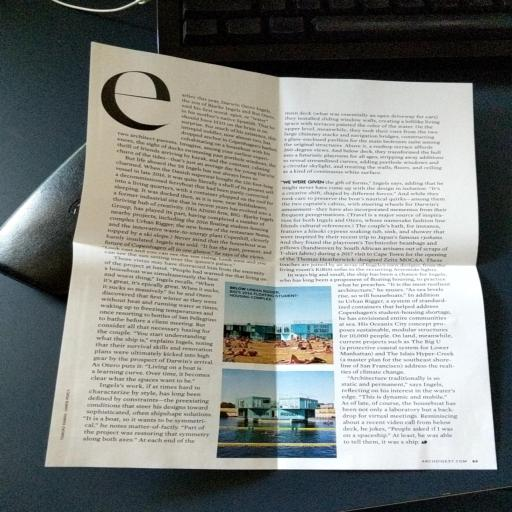paper: (59, 28, 502, 490)
